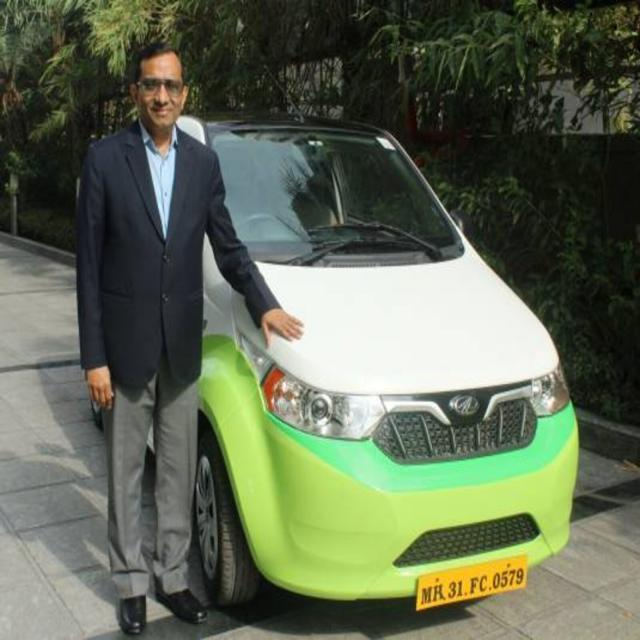plate: (413, 553, 528, 611)
